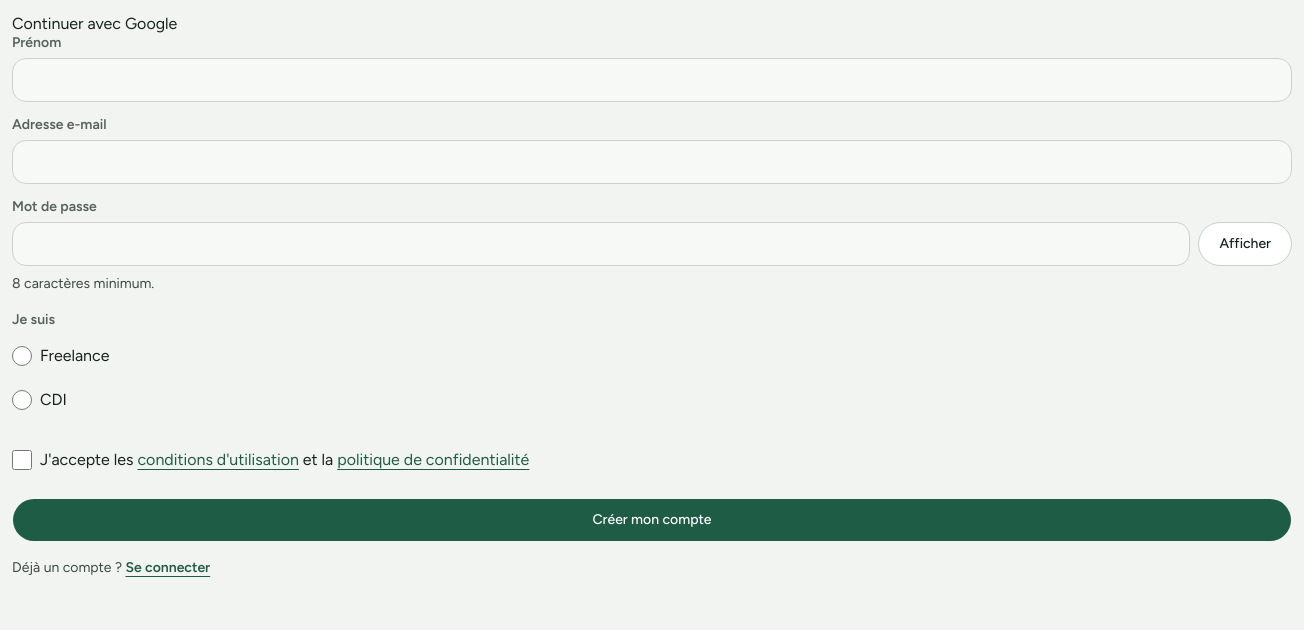
Test: SignUpForm › announces a validation error and flags the fields as invalid
Click the button "Créer mon compte". click: (652, 520)
box: [12,498,1292,542]
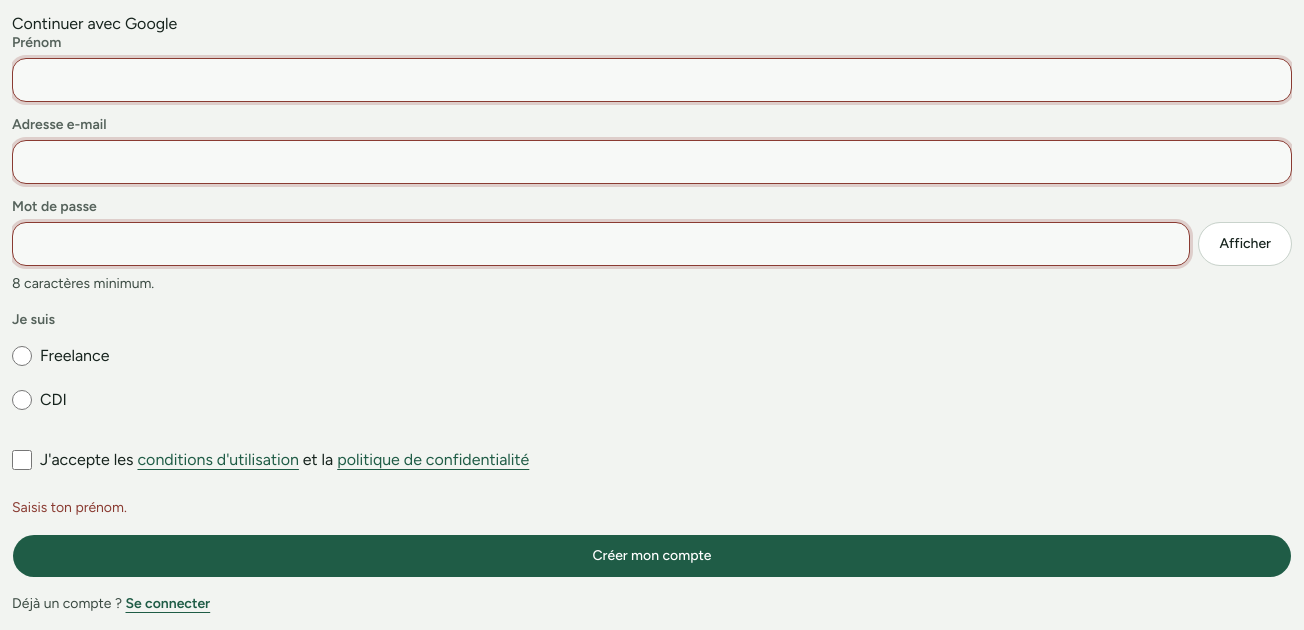
Expected: the message reads "Saisis ton prénom.", [12,499,127,516]
